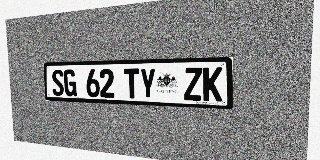2: (99, 69, 114, 98)
6: (86, 69, 100, 97)
G: (63, 69, 77, 96)
K: (203, 67, 223, 102)
S: (51, 70, 64, 96)
T: (124, 68, 140, 99)
Y: (140, 68, 156, 99)
Z: (184, 67, 202, 101)
